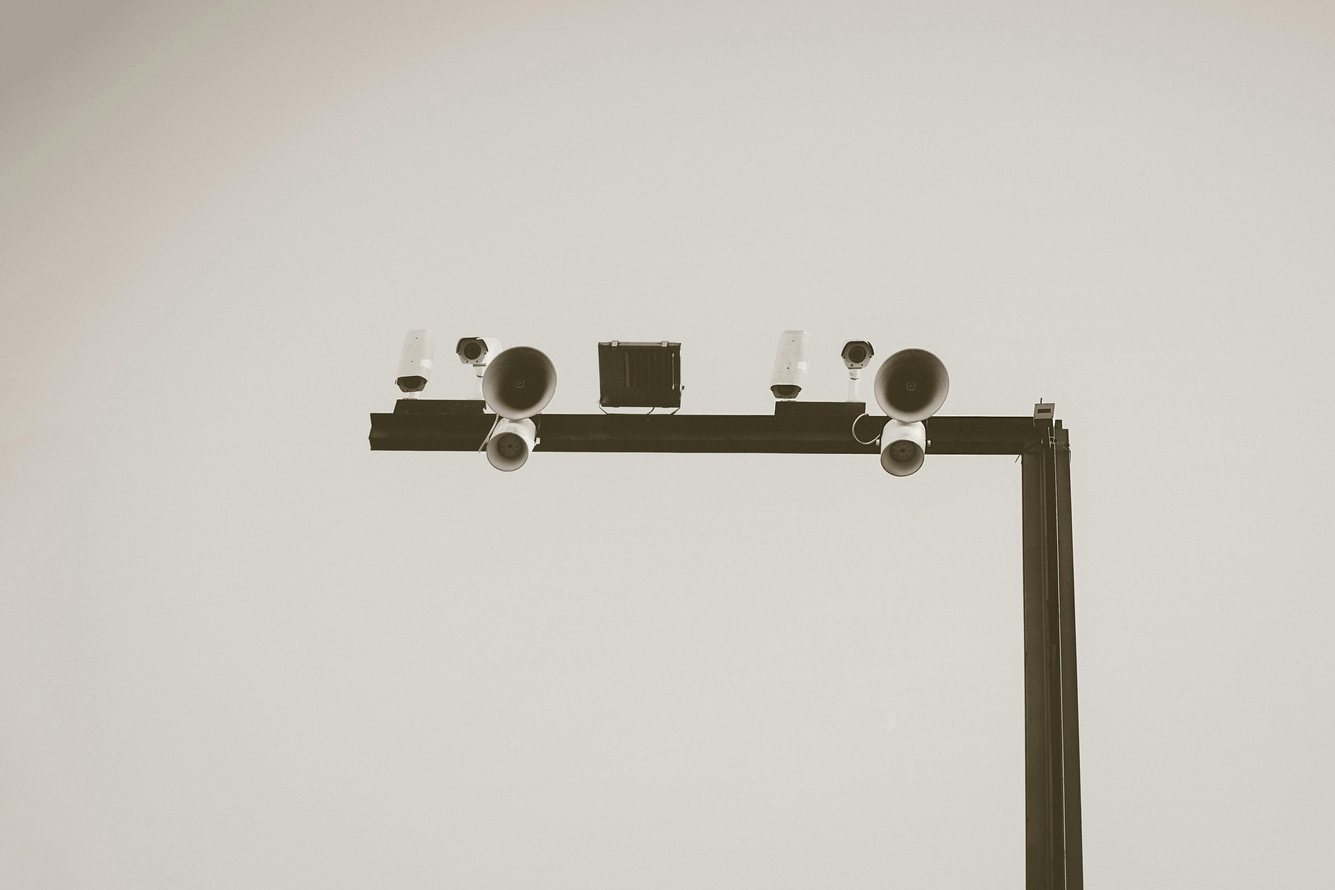camera: (379, 289, 491, 425), (853, 425, 987, 529), (477, 425, 578, 537), (834, 270, 873, 409)
